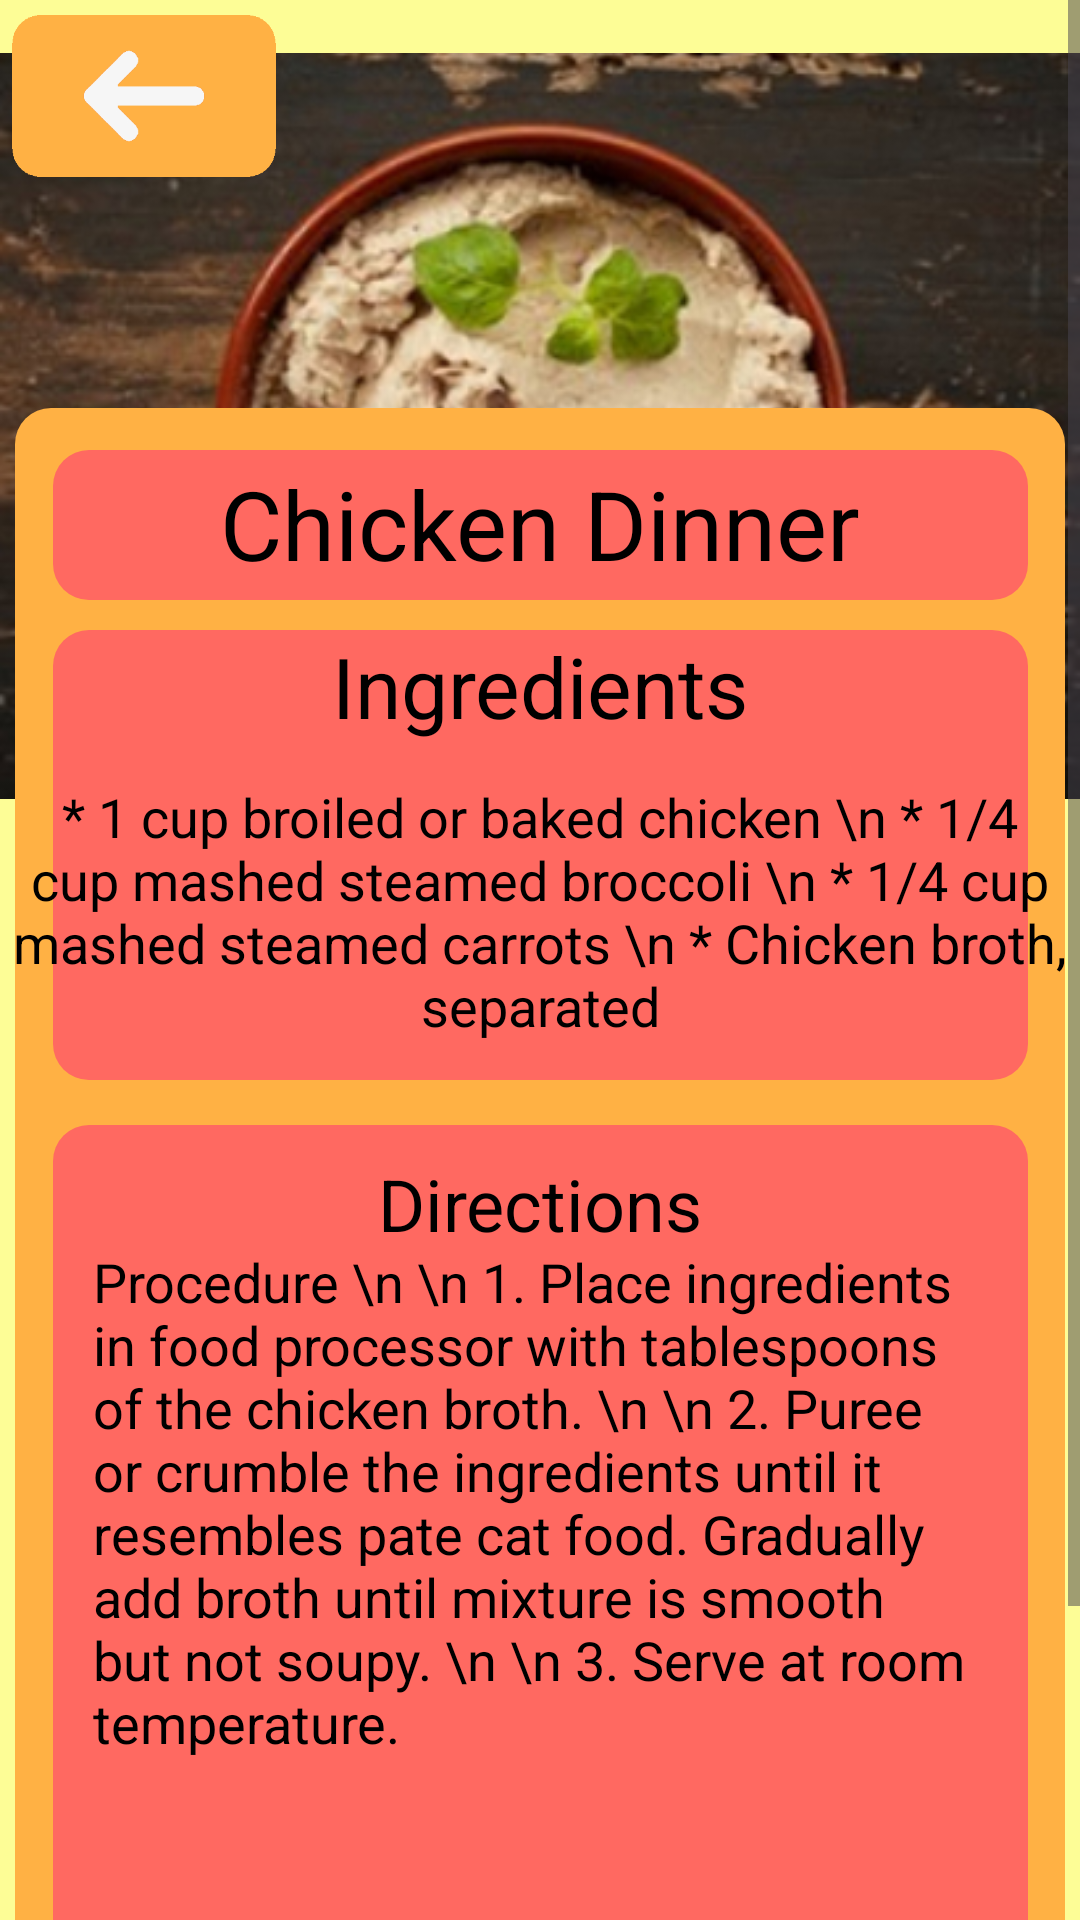

Point at icon controls on the screen. Image size 1080*1920, points as (x,y).
backred: (144,96)
